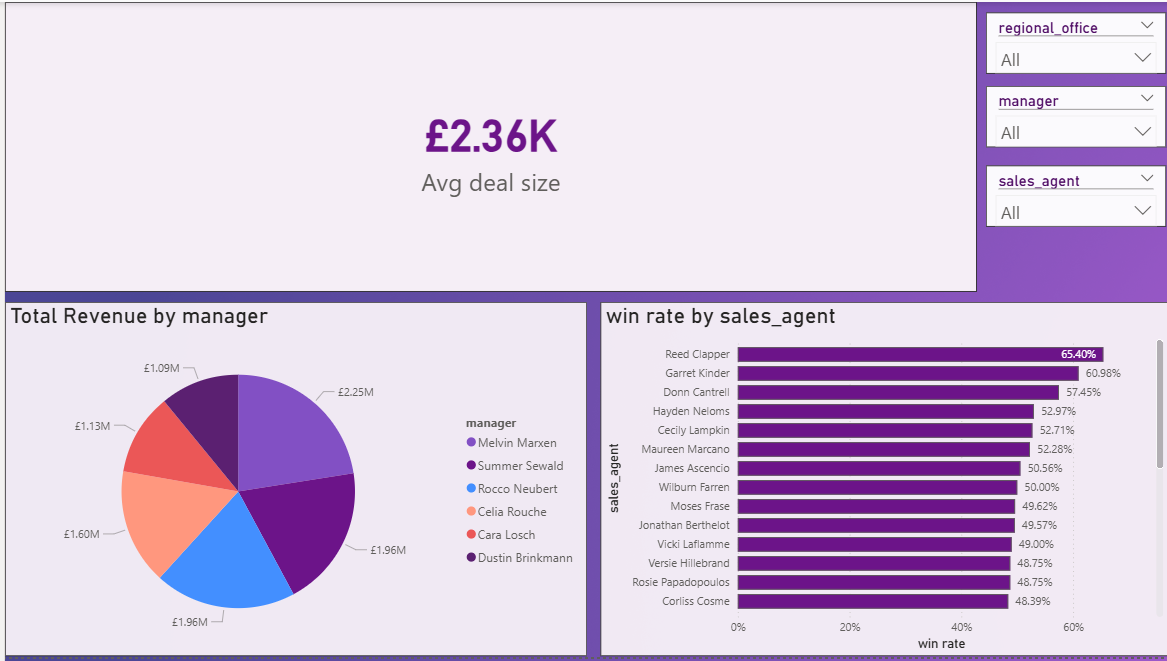

What the dashboard file says about the page in this screenshot:
{"tool":"powerbi","page":{"name":"sales performance","canvas":[1280,720],"ordinal":1},"visuals":[{"type":"pieChart","fields":{"Category":["sales_teams.manager"],"Y":["sales_pipeline (2).Total Revenue"]},"box":[0,329.9,640,389.3],"z":0},{"type":"clusteredBarChart","fields":{"Category":["sales_teams.sales_agent"],"Y":["accounts.win rate"]},"box":[654.8,329.9,625.2,389.3],"z":1000},{"type":"card","fields":{"Values":["accounts.Avg deal size"]},"box":[0,0,1068.9,318.4],"z":2000},{"type":"slicer","fields":{"Values":["sales_teams.regional_office"]},"box":[1078.8,11.5,197.9,67.6],"z":2001},{"type":"slicer","fields":{"Values":["sales_teams.manager"]},"box":[1078.8,92.4,197.9,67.6],"z":2002},{"type":"slicer","fields":{"Values":["sales_teams.sales_agent"]},"box":[1078.8,179.8,197.9,67.6],"z":2003}]}

Visuals, with their boxes in screenshot pixels (x1, y1, x2, y2), scaled from the page's 1280x720 canvas onto the 1167x661 screenshot:
pieChart - sales_teams.manager x sales_pipeline (2).Total Revenue: [left=0, top=303, right=584, bottom=660]
clusteredBarChart - sales_teams.sales_agent x accounts.win rate: [left=597, top=303, right=1166, bottom=660]
card - accounts.Avg deal size: [left=0, top=0, right=975, bottom=292]
slicer - sales_teams.regional_office: [left=984, top=11, right=1164, bottom=73]
slicer - sales_teams.manager: [left=984, top=85, right=1164, bottom=147]
slicer - sales_teams.sales_agent: [left=984, top=165, right=1164, bottom=227]
